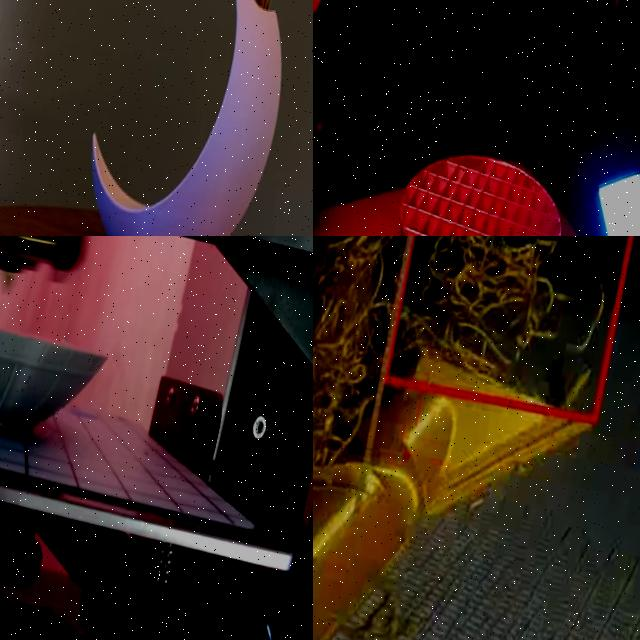spaghetti: (388, 236, 620, 410), (313, 236, 414, 560)
